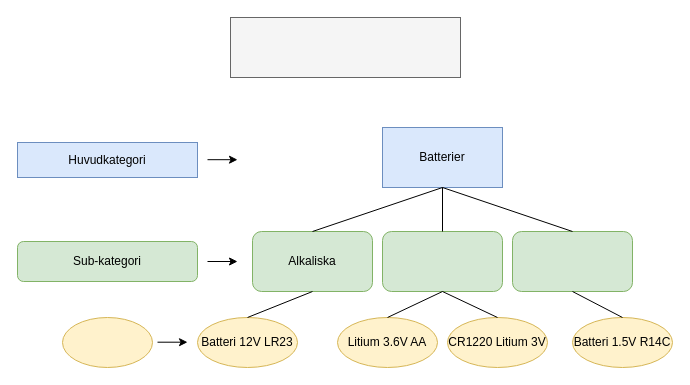
Some shapes in this 690 by 385 pixel diagram are drawn without their labels. The shapes that lost their labels are listed below. From the top down, each one's centre as x and y in pixels, then its label:
point (345, 47): Kategori Hierarki
point (442, 261): Litium
point (572, 261): Zink-kol
point (107, 342): Produkter
